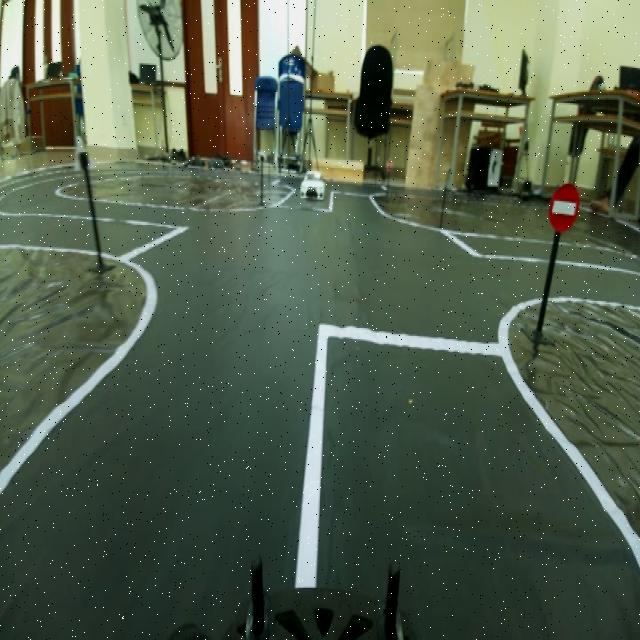car: (298, 164, 328, 205)
no_entry: (547, 173, 581, 242)
